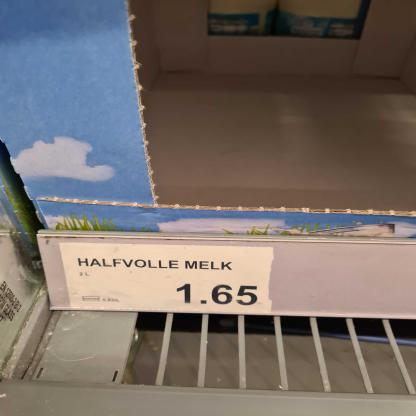prtg: (60, 243, 276, 316)
